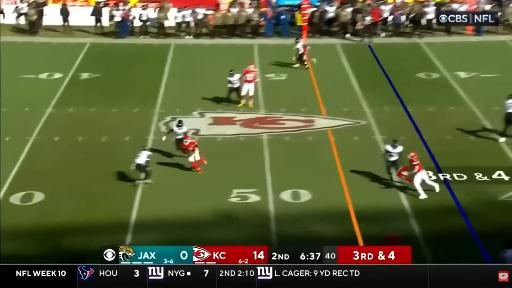Helmet: (408, 152, 418, 159), (183, 136, 191, 144), (392, 140, 399, 147), (176, 120, 183, 127), (248, 63, 254, 69), (142, 147, 149, 150), (230, 70, 234, 75), (295, 39, 299, 43), (508, 94, 511, 99), (393, 140, 398, 143)
Jersey: (385, 145, 403, 161), (135, 151, 151, 165), (243, 68, 257, 83), (172, 124, 187, 138), (410, 158, 423, 173), (227, 74, 241, 87), (182, 140, 197, 152), (296, 41, 305, 53), (505, 100, 511, 112)
Player: (406, 152, 439, 199), (182, 136, 206, 173), (239, 63, 258, 107), (384, 140, 403, 181), (132, 147, 152, 183), (163, 120, 187, 150), (499, 94, 511, 142), (227, 70, 241, 101), (293, 39, 308, 67)
